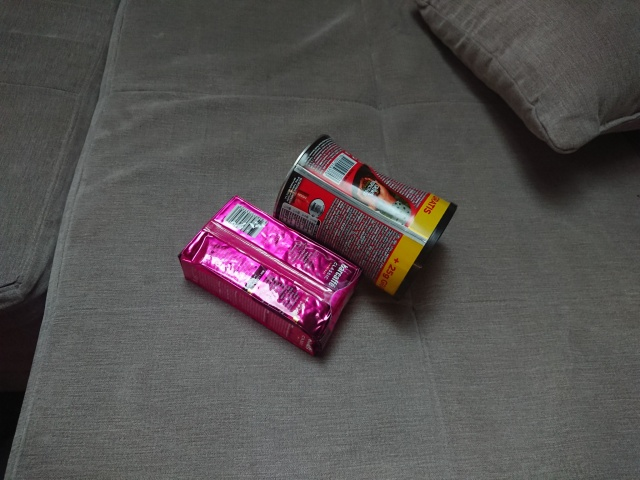Barcaffe Classic Original 225g: (174, 191, 366, 361)
Nescafe Classic 225g: (271, 132, 461, 303)
